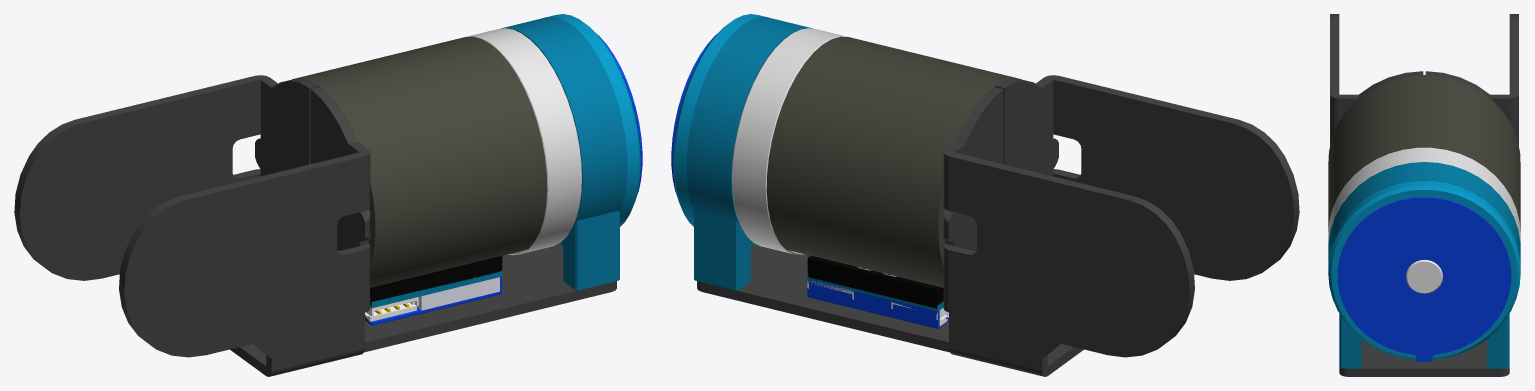
The model's file is elbow_link.dae.
The picture shows the model from 3 angles, left to right: view 1: azimuth 30°, elevation 25°; view 2: azimuth 150°, elevation 25°; view 3: azimuth 270°, elevation 25°; orthographic projection. The views are drawn at different scales.
Parts seen in each view (by area): view 1: FBXASC227FBXASC130FBXASC189FBXASC227FBXASC131FBXASC170FBXASC (×10); view 2: FBXASC227FBXASC130FBXASC189FBXASC227FBXASC131FBXASC170FBXASC (×7); view 3: FBXASC227FBXASC130FBXASC189FBXASC227FBXASC131FBXASC170FBXASC (×7).
Boxes of the visible parts, <box> form: FBXASC227FBXASC130FBXASC189FBXASC227FBXASC131FBXASC170FBXASC (×10): <box>14,14,640,376</box>; FBXASC227FBXASC130FBXASC189FBXASC227FBXASC131FBXASC170FBXASC (×7): <box>673,14,1299,376</box>; FBXASC227FBXASC130FBXASC189FBXASC227FBXASC131FBXASC170FBXASC (×7): <box>1328,14,1520,376</box>.
Bounding box in the file's own units: 0.1405 × 0.052 × 0.0585.
